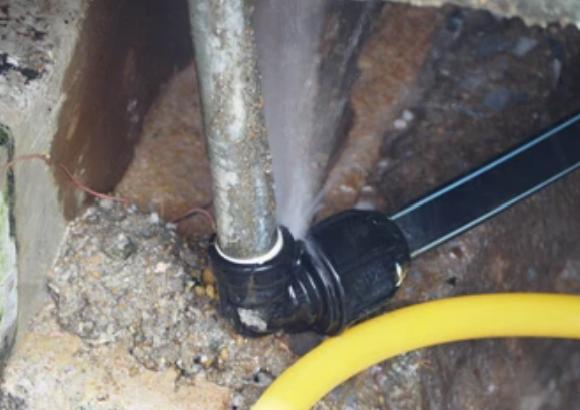pipe burst: (249, 0, 342, 243)
